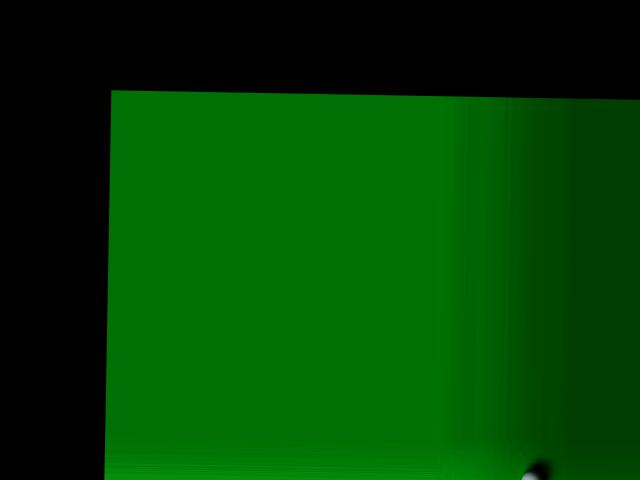egg: (520, 469, 542, 480)
